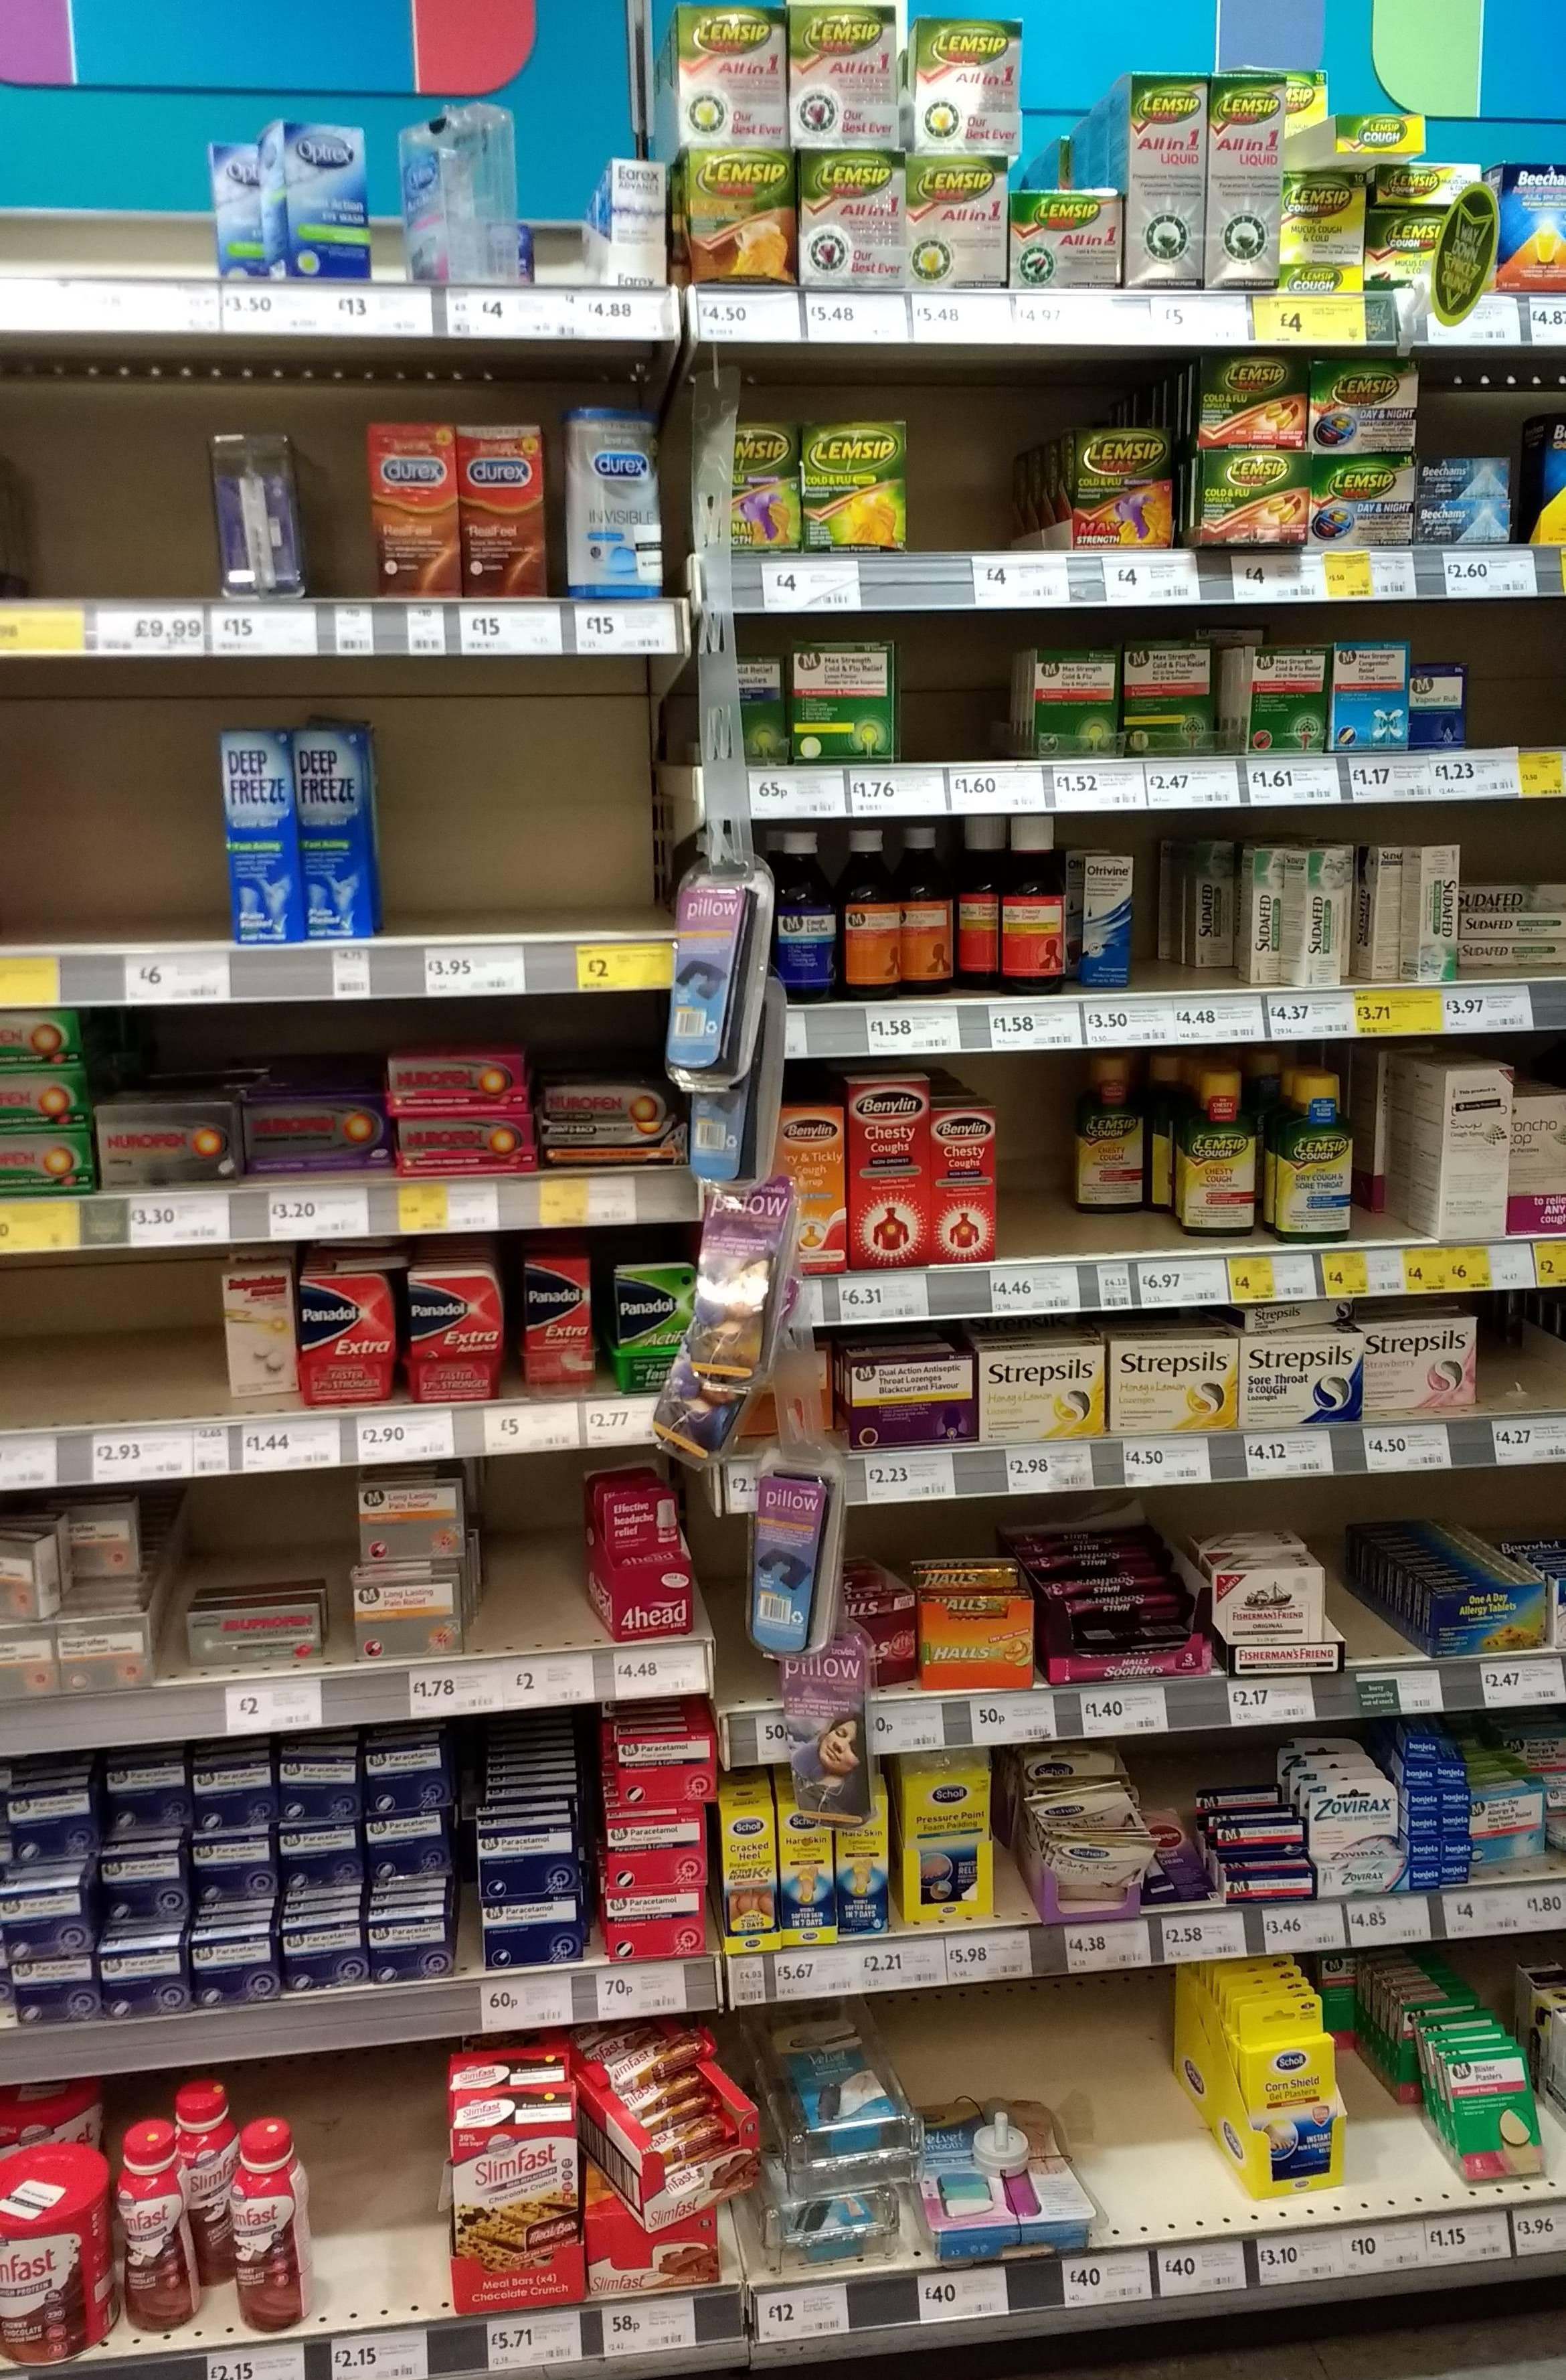empty: (385, 701, 645, 928), (17, 706, 213, 935), (12, 411, 199, 613), (323, 2062, 433, 2321), (14, 1265, 210, 1410), (1098, 1982, 1208, 2226), (14, 142, 199, 259), (918, 383, 1008, 554), (489, 1482, 577, 1650), (290, 405, 362, 598), (907, 636, 1005, 757), (1003, 1069, 1061, 1256), (1491, 1293, 1566, 1403)
misalignment: (1337, 1948, 1547, 2204), (577, 2025, 762, 2223), (393, 108, 580, 281), (909, 2093, 1092, 2252), (1136, 841, 1246, 975)
